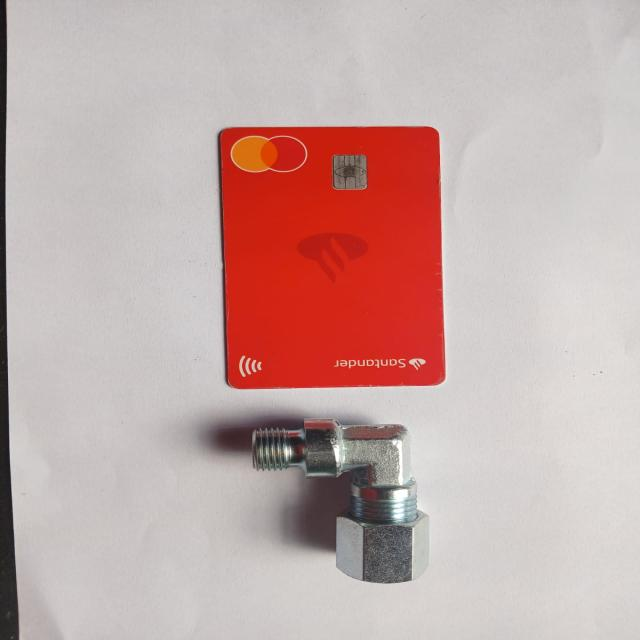cartao: (218, 126, 444, 389)
rosca_externa: (252, 420, 431, 583)
